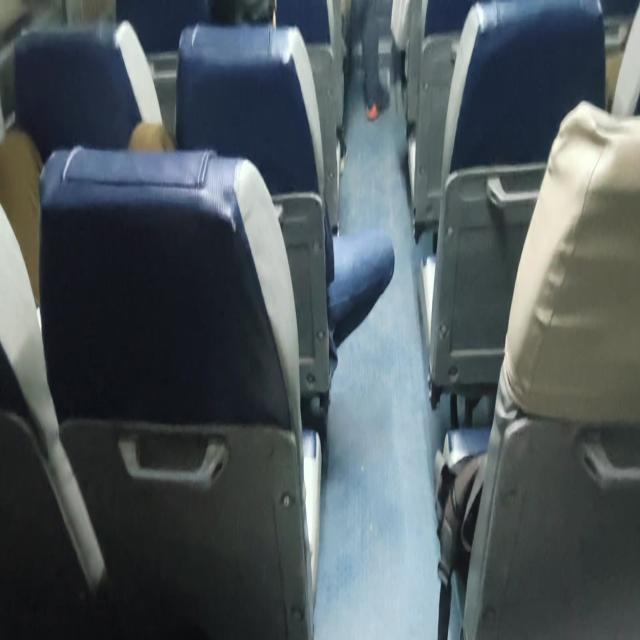person: (2, 11, 394, 634), (435, 4, 639, 635), (128, 20, 394, 390), (346, 0, 390, 121)
